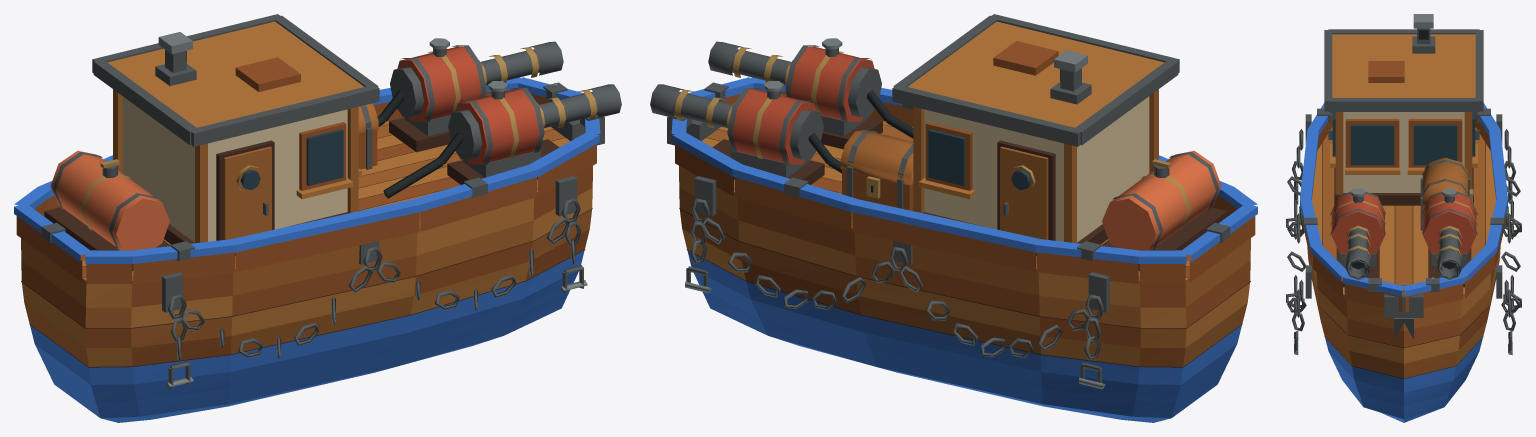
3 views of the same model, side by side, from view 1: azimuth 30°, elevation 25°; view 2: azimuth 150°, elevation 25°; view 3: azimuth 270°, elevation 25° (orthographic). The views are drawn at different scales.
Parts seen in each view (by area): view 1: cabin.core, cabin.roof, fuel.reserve.tank, hull.plank.7.9, bulwark.wood.9, cabin.door.0.213, cabin.roof.edge.0.25, hull.plank.5.9, flamer.starboard.receiver, hull.plank.6.9, flamer.port.receiver, hull.plank.4.9 (+78 smaller); view 2: cabin.core, cabin.roof, fuel.reserve.tank, hull.plank.7.3, bulwark.wood.3, cabin.door.-0.213, cabin.roof.edge.-0.25, flamer.port.receiver, hull.plank.6.3, hull.plank.5.3, flamer.starboard.receiver, hull.plank.4.3 (+75 smaller); view 3: cabin.roof, cabin.core, flamer.port.receiver, flamer.starboard.receiver, cabin.roof.end.0.01, cabin.frontwindow.glass.0.104, cabin.frontwindow.glass.-0.104, deck.board.5, treasure.roundlid, deck.board.9, deck.board.1, deck.board.6 (+64 smaller).
Boxes of the visible parts, x1,y1,x2,y2 form: cabin.core: (122,96,347,242); cabin.roof: (107,21,363,127); fuel.reserve.tank: (50,150,169,250); hull.plank.7.9: (232,233,417,295); bulwark.wood.9: (235,212,419,272); cabin.door.0.213: (223,146,271,252); cabin.roof.edge.0.25: (189,84,379,146); hull.plank.5.9: (231,277,415,335); flamer.starboard.receiver: (456,89,544,164); hull.plank.6.9: (232,255,416,315); flamer.port.receiver: (397,46,486,121); hull.plank.4.9: (231,296,413,354); cabin.core: (924,96,1149,242); cabin.roof: (908,21,1164,127); fuel.reserve.tank: (1102,150,1221,250); hull.plank.7.3: (854,233,1039,295); bulwark.wood.3: (852,212,1036,272); cabin.door.-0.213: (1000,146,1048,252); cabin.roof.edge.-0.25: (892,84,1082,146); flamer.port.receiver: (727,89,815,164); hull.plank.6.3: (855,255,1039,315); hull.plank.5.3: (856,277,1040,335); flamer.starboard.receiver: (785,46,874,121); hull.plank.4.3: (858,296,1040,354); cabin.roof: (1332,34,1475,97); cabin.core: (1343,112,1464,192); flamer.port.receiver: (1423,193,1476,253); flamer.starboard.receiver: (1331,193,1384,253); cabin.roof.end.0.01: (1328,98,1479,111); cabin.frontwindow.glass.0.104: (1350,124,1394,165); cabin.frontwindow.glass.-0.104: (1413,124,1457,165); deck.board.5: (1395,205,1412,284); treasure.roundlid: (1422,157,1467,205); deck.board.9: (1322,127,1336,259); deck.board.1: (1471,127,1485,259); deck.board.6: (1379,205,1394,283).
Bounding box in the file's own units: 1.65 × 0.9855 × 0.7792.
